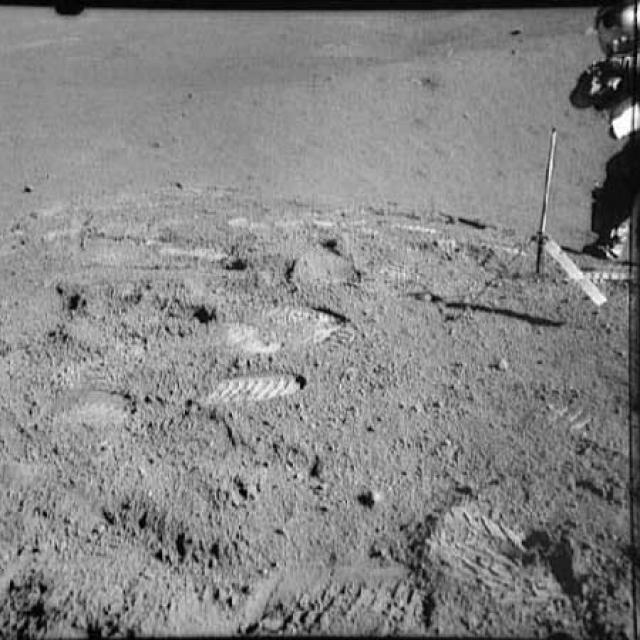artifact: (456, 113, 616, 314), (564, 0, 638, 269)
